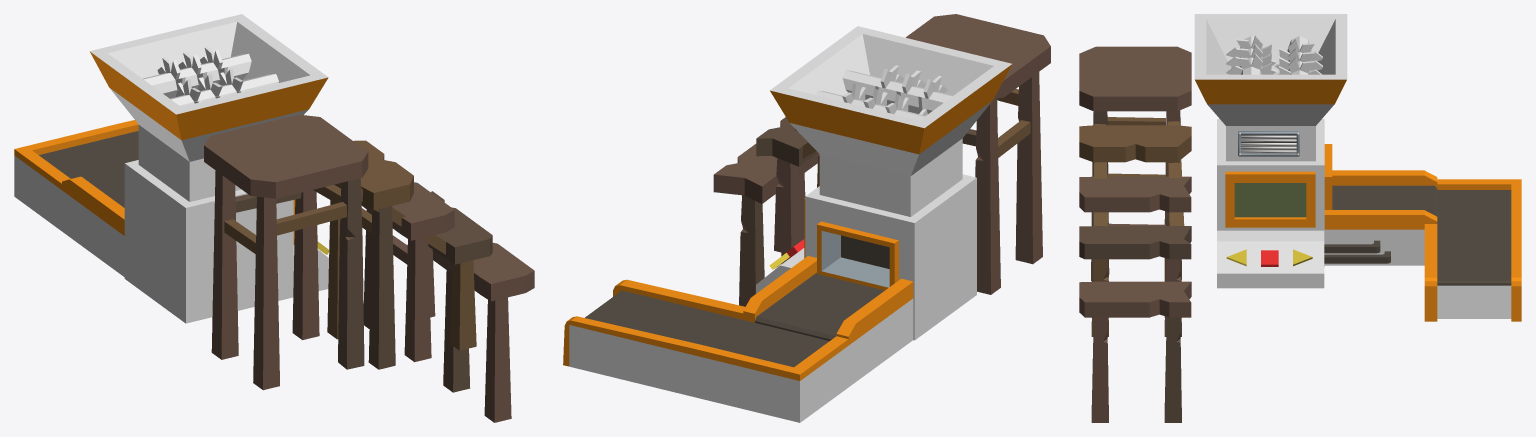
File: 3D_workstation_chopper.fbx
3 views of the same model, side by side, from view 1: azimuth 30°, elevation 25°; view 2: azimuth 150°, elevation 25°; view 3: azimuth 270°, elevation 25° (orthographic). The views are drawn at different scales.
Parts seen in each view (by area): view 1: 3D_workstation_chopper_stair, 3D_workstation_chopper_station, 3D_workstation_chopper_Blade_L, 3D_workstation_chopper_Blade_R; view 2: 3D_workstation_chopper_station, 3D_workstation_chopper_stair, 3D_workstation_chopper_Blade_R, 3D_workstation_chopper_Blade_L; view 3: 3D_workstation_chopper_station, 3D_workstation_chopper_stair, 3D_workstation_chopper_Blade_R, 3D_workstation_chopper_Blade_L.
Boxes of the visible parts, <box> form: 3D_workstation_chopper_stair: <box>204,114,534,422</box>; 3D_workstation_chopper_station: <box>14,14,329,323</box>; 3D_workstation_chopper_Blade_L: <box>143,46,251,98</box>; 3D_workstation_chopper_Blade_R: <box>170,68,278,106</box>; 3D_workstation_chopper_station: <box>563,26,1012,422</box>; 3D_workstation_chopper_stair: <box>713,14,1050,306</box>; 3D_workstation_chopper_Blade_R: <box>842,65,952,115</box>; 3D_workstation_chopper_Blade_L: <box>816,83,925,120</box>; 3D_workstation_chopper_station: <box>1194,14,1521,321</box>; 3D_workstation_chopper_stair: <box>1079,46,1191,422</box>; 3D_workstation_chopper_Blade_R: <box>1226,35,1276,74</box>; 3D_workstation_chopper_Blade_L: <box>1274,36,1322,74</box>.
Bounding box in the file's own units: 2.51 × 2.66 × 3.68.
